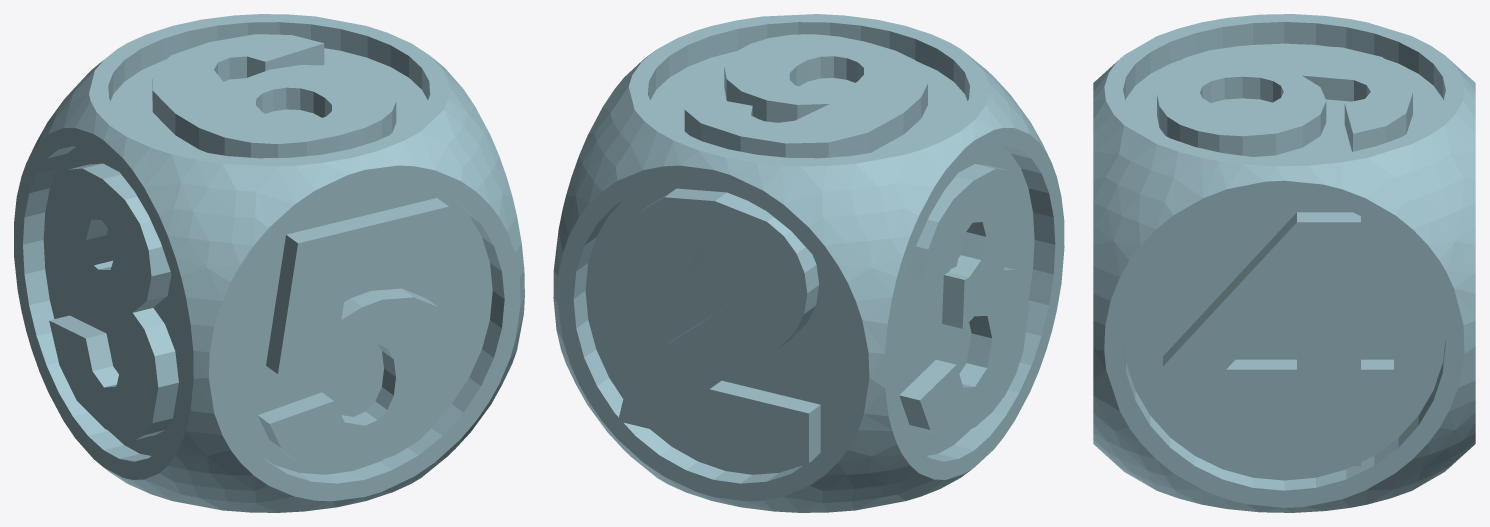
Rendered from Khatelyn.Dice.glb.
The picture shows the model from 3 angles, left to right: view 1: azimuth 30°, elevation 25°; view 2: azimuth 150°, elevation 25°; view 3: azimuth 270°, elevation 25°; orthographic projection.
Parts seen in each view (by area): view 1: Mesh_Mesh_head_geo.001_lambert2SG.001; view 2: Mesh_Mesh_head_geo.001_lambert2SG.001; view 3: Mesh_Mesh_head_geo.001_lambert2SG.001.
Boxes of the visible parts, x1,y1,x2,y2 form: Mesh_Mesh_head_geo.001_lambert2SG.001: (14,14,524,512); Mesh_Mesh_head_geo.001_lambert2SG.001: (553,14,1064,512); Mesh_Mesh_head_geo.001_lambert2SG.001: (1093,14,1475,512).
Size of the model in its own units: 16 by 16 by 16.
